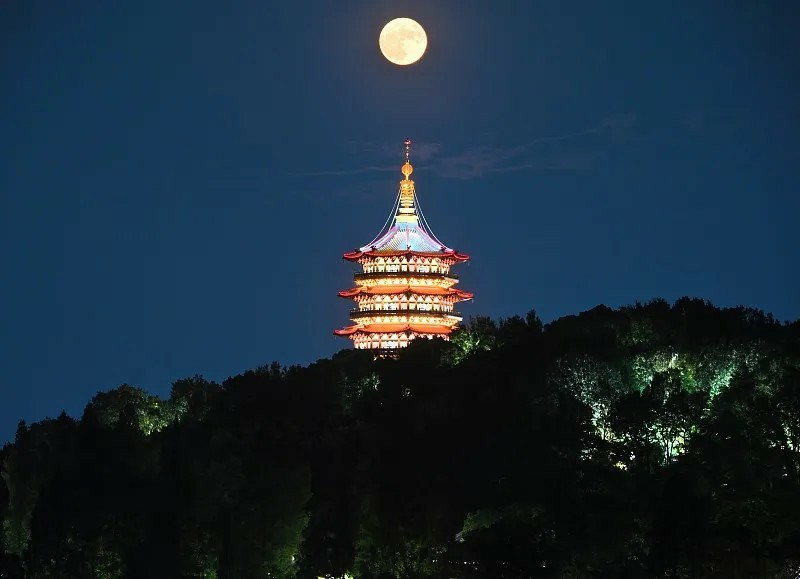Leifeng: (333, 136, 473, 354)
